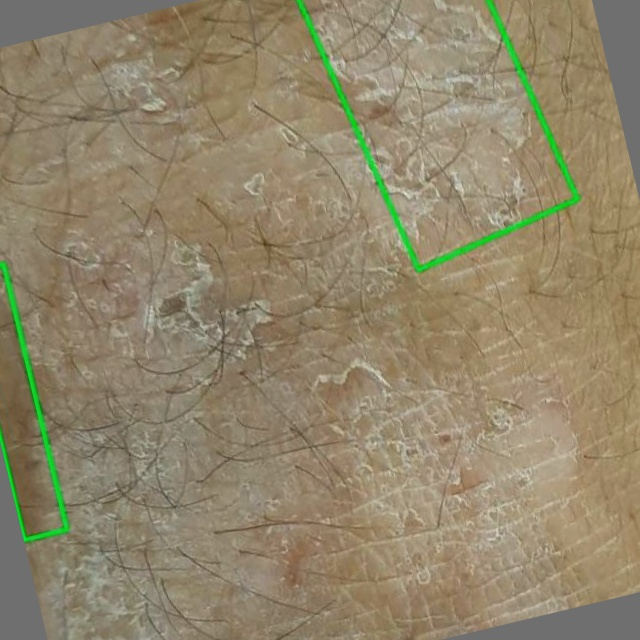Tinea Corporis: (300, 0, 577, 269), (0, 264, 66, 539)
